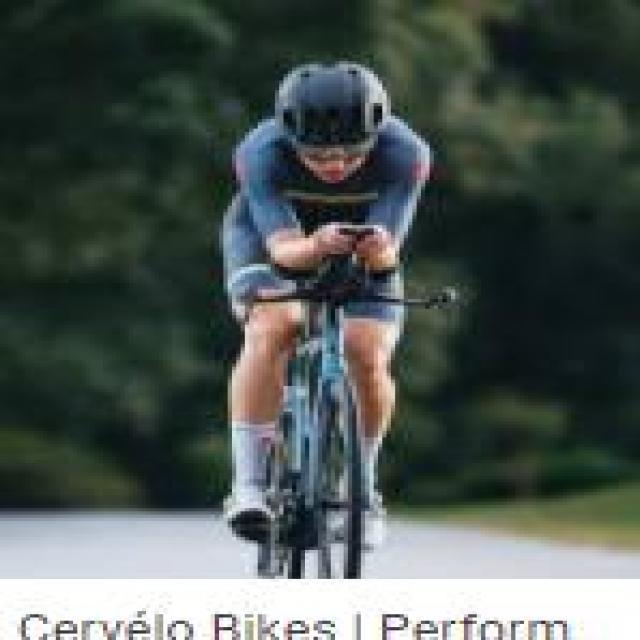bicycle: (254, 287, 379, 570)
